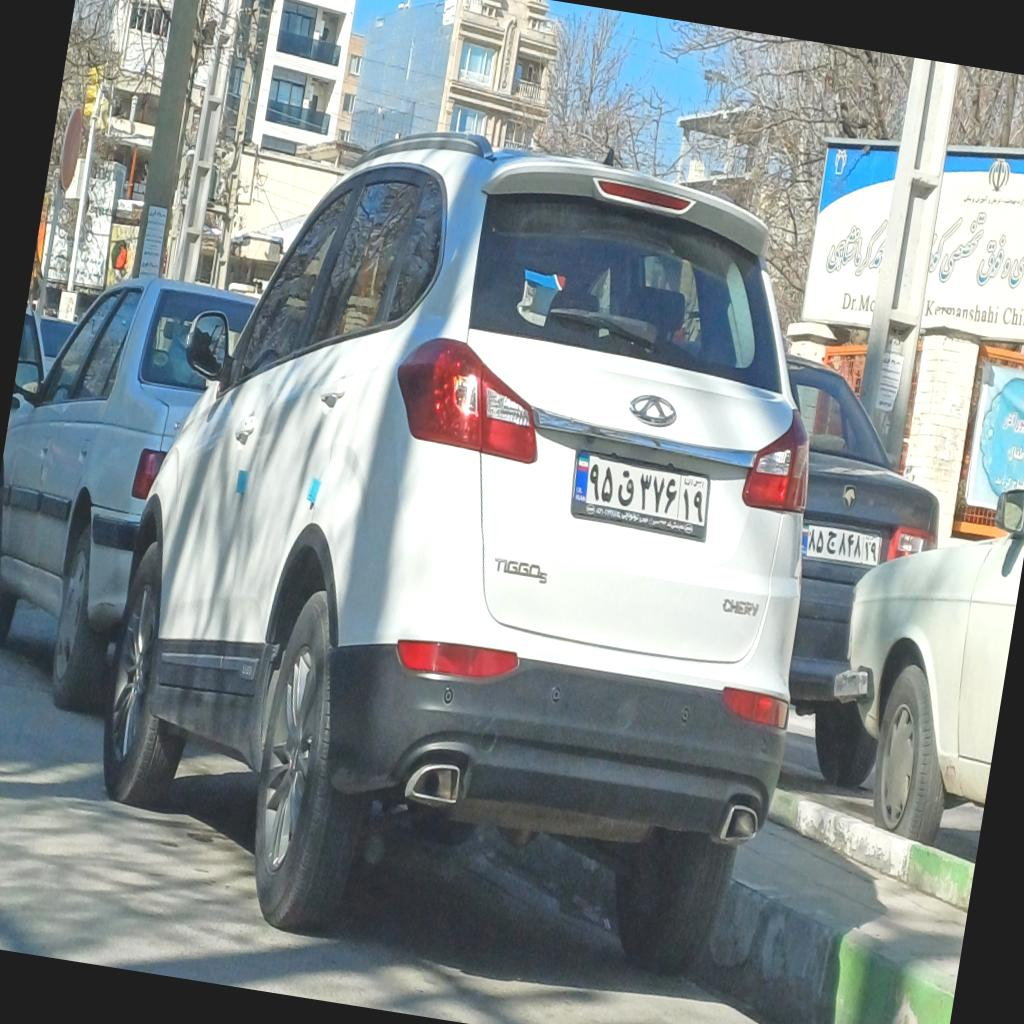Plates: (569, 450, 713, 523)
